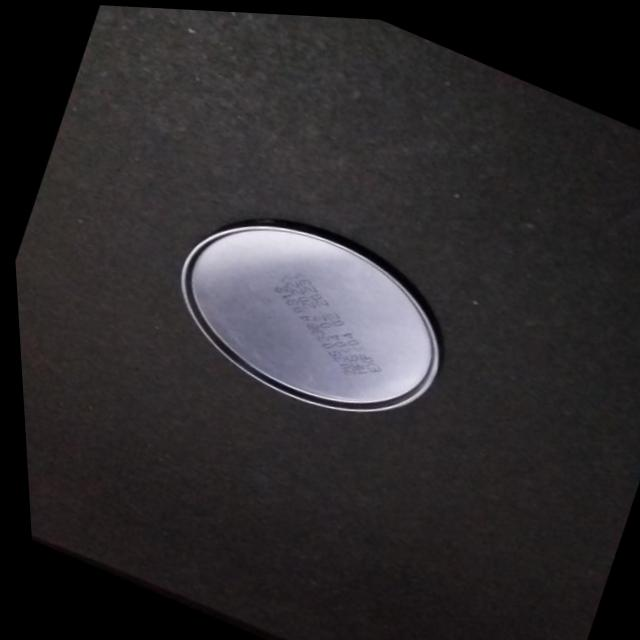metal: (181, 221, 439, 411)
